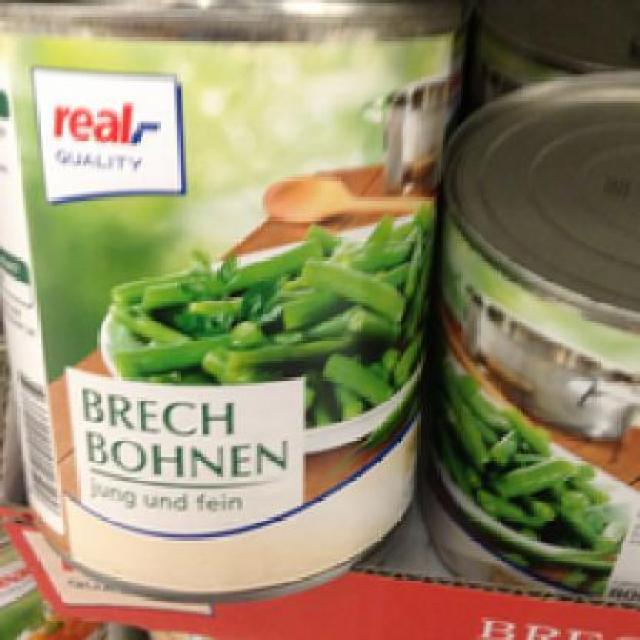Beans: (5, 3, 458, 580)
